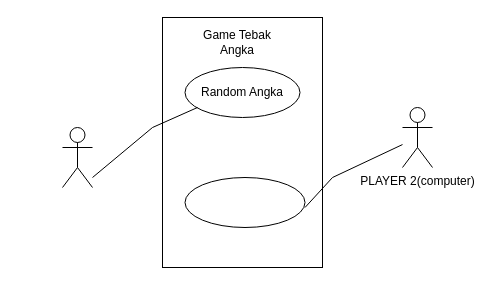
Image size: 492x285. Some labels were removed from this diagram. Here are the shapes that lost their labels. From the top down, the box of each, then its label:
(62, 126, 92, 188): PLAYER 1 (Computer)
(184, 176, 305, 228): Tebak Angka
